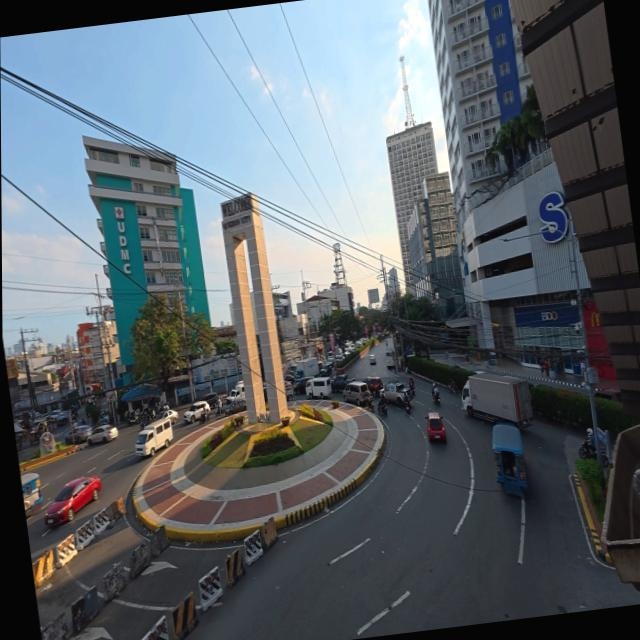car: (38, 472, 104, 526), (180, 401, 211, 426), (425, 410, 448, 442), (86, 426, 118, 448)
